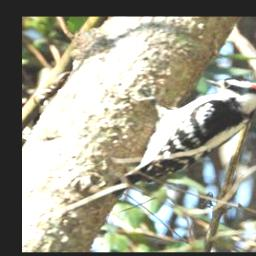Woodpecker: (123, 76, 256, 185)
